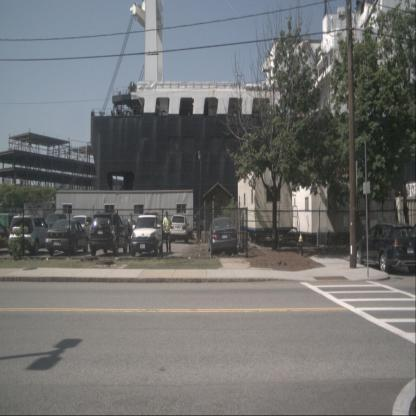human-pedestrian-adult: (162, 211, 172, 253), (127, 213, 137, 254)
vehicle-car: (354, 221, 416, 276), (7, 215, 54, 256), (89, 211, 128, 256), (46, 218, 89, 255), (131, 214, 163, 257), (208, 216, 237, 258), (68, 214, 93, 244), (42, 213, 68, 241), (170, 214, 187, 244)
